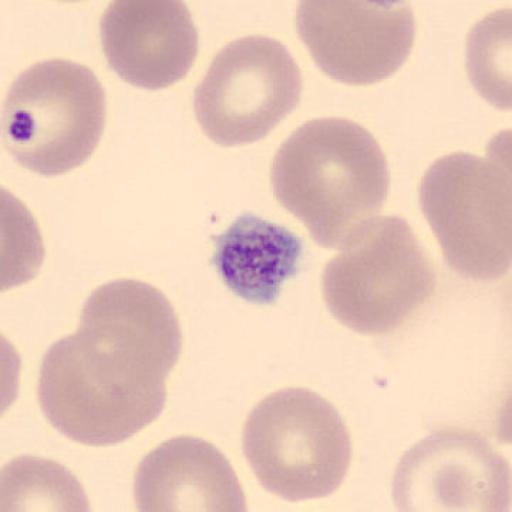Platelet: (206, 210, 306, 306)
RBC: (268, 114, 392, 252), (35, 328, 168, 448), (319, 212, 438, 336), (239, 384, 354, 505), (0, 55, 108, 179), (415, 148, 512, 284), (191, 33, 304, 148), (76, 275, 184, 381), (36, 330, 130, 449), (293, 0, 418, 89), (388, 426, 512, 512), (98, 0, 201, 93), (132, 432, 250, 512), (2, 451, 93, 512), (463, 4, 512, 114), (2, 186, 46, 292), (483, 125, 512, 210), (1, 330, 22, 422)
